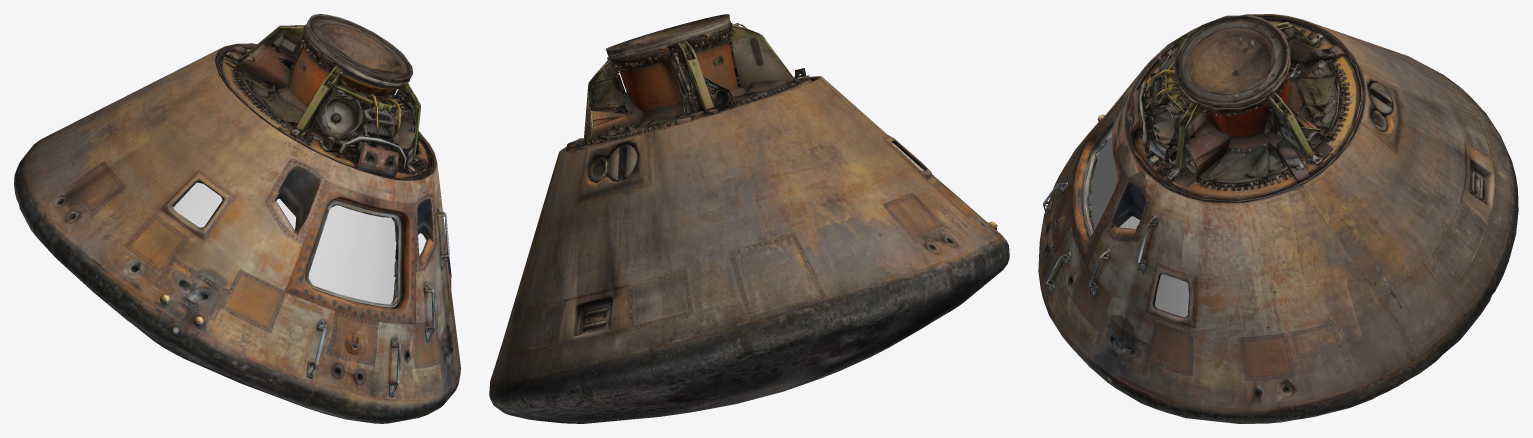
Rendered from apollo-11-command-module.glb.
3 views of the same model, side by side, from view 1: azimuth 30°, elevation 25°; view 2: azimuth 150°, elevation 25°; view 3: azimuth 270°, elevation 25° (orthographic). The views are drawn at different scales.
Parts seen in each view (by area): view 1: x3d-cm-exterior-shell-90k-uvs-150k-unwrapped, x3d-cm-exterior-top-160k-uvs-150k-unwrapped, x3d-cm-exterior-filler; view 2: x3d-cm-exterior-shell-90k-uvs-150k-unwrapped, x3d-cm-exterior-top-160k-uvs-150k-unwrapped; view 3: x3d-cm-exterior-shell-90k-uvs-150k-unwrapped, x3d-cm-exterior-top-160k-uvs-150k-unwrapped, x3d-cm-exterior-filler.
Boxes of the visible parts, x1,y1,x2,y2 form: x3d-cm-exterior-shell-90k-uvs-150k-unwrapped: (14, 43, 460, 423); x3d-cm-exterior-top-160k-uvs-150k-unwrapped: (215, 14, 433, 180); x3d-cm-exterior-filler: (173, 182, 426, 304); x3d-cm-exterior-shell-90k-uvs-150k-unwrapped: (489, 76, 1009, 423); x3d-cm-exterior-top-160k-uvs-150k-unwrapped: (562, 14, 819, 151); x3d-cm-exterior-shell-90k-uvs-150k-unwrapped: (1038, 14, 1518, 423); x3d-cm-exterior-top-160k-uvs-150k-unwrapped: (1126, 15, 1363, 202); x3d-cm-exterior-filler: (1091, 136, 1188, 316).
Bounding box in the file's own units: 3.65 × 3.2 × 3.94.
3 materials, 2 textured.
